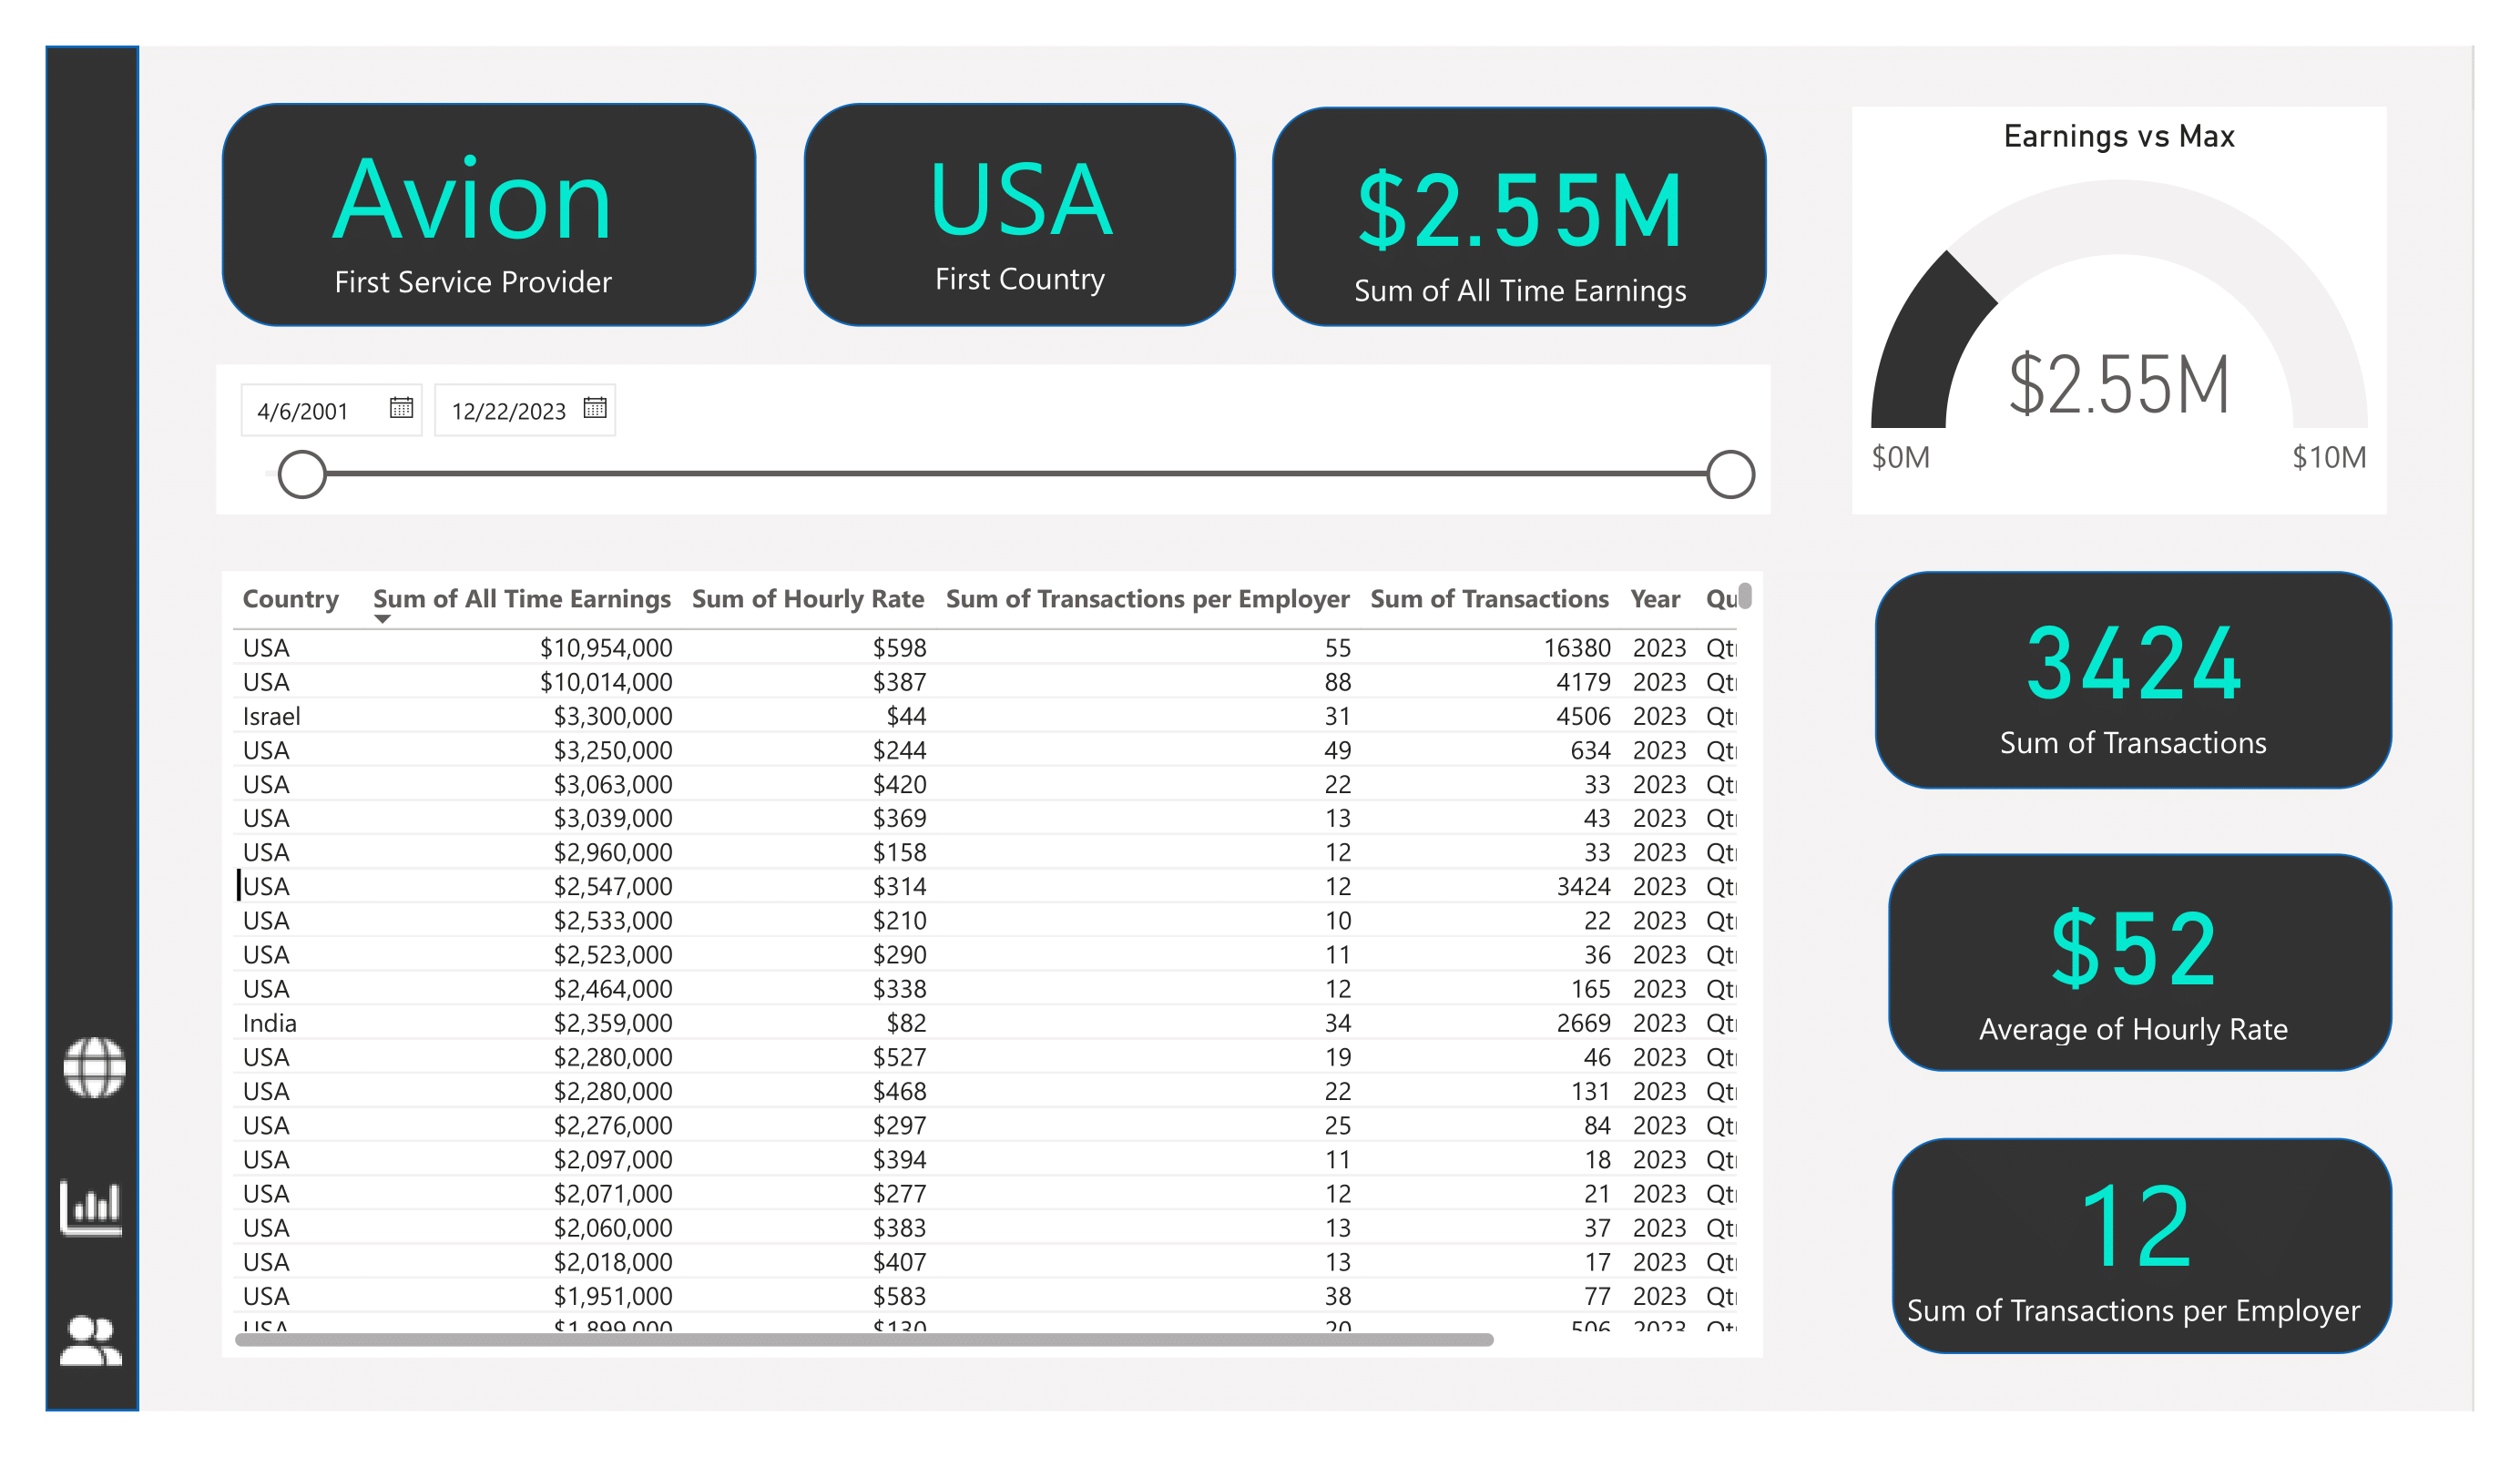

What the dashboard file says about the page in this screenshot:
{"tool":"powerbi","page":{"name":"Service Provider","canvas":[1280,720],"ordinal":0},"visuals":[{"type":"shape","box":[0,0,1280,720],"z":0},{"type":"shape","box":[965,276.7,273.3,115],"z":1000},{"type":"shape","box":[646.7,31.7,261.7,116.7],"z":2000},{"type":"shape","box":[971.7,426.1,266.7,115],"z":3000},{"type":"shape","box":[973.9,575.6,264.4,114.4],"z":4000},{"type":"shape","box":[400,30,228.3,118.3],"z":5000},{"type":"card","fields":{"Values":["Sum(data_to_analyse (2).all_time_earnings)"]},"box":[643.3,31.7,270,116.7],"z":6000},{"type":"card","fields":{"Values":["Min(data_to_analyse (2).country)"]},"box":[400.7,32,226,110],"z":7000},{"type":"card","fields":{"Values":["Sum(data_to_analyse (2).transactions)"]},"box":[970,276.7,263.3,103.3],"z":8000},{"type":"shape","box":[93.3,30,281.7,118.3],"z":9000},{"type":"tableEx","fields":{"Values":["data_to_analyse (2).country","Sum(data_to_analyse (2).all_time_earnings)","Sum(data_to_analyse (2).hourly_rate)","Sum(data_to_analyse (2).Transc\\employer)","Sum(data_to_analyse (2).transactions)","data_to_analyse (2).member_since.Variation.Date Hierarchy.Year","data_to_analyse (2).member_since.Variation.Date Hierarchy.Quarter","data_to_analyse (2).member_since.Variation.Date Hierarchy.Month","data_to_analyse (2).member_since.Variation.Date Hierarchy.Day"]},"box":[93.3,276.7,812.2,415.6],"z":10000},{"type":"card","fields":{"Values":["Min(data_to_analyse (2).service_provider_name)"]},"box":[93.2,30,265,111.2],"z":11000},{"type":"card","fields":{"Values":["Sum(data_to_analyse (2).Transc\\employer)"]},"box":[973.3,573.3,256.7,110],"z":12000},{"type":"card","fields":{"Values":["Avg(data_to_analyse (2).hourly_rate)"]},"box":[973.3,426.7,256.7,105],"z":13000},{"type":"gauge","title":"Earnings vs Max","fields":{"MaxValue":["data_to_analyse (2).Max earnings"],"Y":["Sum(data_to_analyse (2).all_time_earnings)"]},"box":[953.3,31.7,281.7,215],"z":14000},{"type":"shape","box":[0,0,48.6,720],"z":15000},{"type":"actionButton","box":[4.2,663.3,53.3,40],"z":16000},{"type":"actionButton","box":[5.6,518.9,53.3,40],"z":17000},{"type":"actionButton","box":[4.4,593.3,53.3,40],"z":18000},{"type":"slicer","fields":{"Values":["data_to_analyse (2).member_since"]},"box":[90,168.3,820,78.3],"z":19000}]}

Visuals, with their boxes on the page's 1280x720 design canvas (x1, y1, x2, y2). These are canvas units, not pixel positions in the 2520x1457 screenshot, which may show the page scaled, cropped or inside an application window:
shape: [left=0, top=0, right=1280, bottom=720]
shape: [left=965, top=277, right=1238, bottom=392]
shape: [left=647, top=32, right=908, bottom=148]
shape: [left=972, top=426, right=1238, bottom=541]
shape: [left=974, top=576, right=1238, bottom=690]
shape: [left=400, top=30, right=628, bottom=148]
card - Sum(data_to_analyse (2).all_time_earnings): [left=643, top=32, right=913, bottom=148]
card - Min(data_to_analyse (2).country): [left=401, top=32, right=627, bottom=142]
card - Sum(data_to_analyse (2).transactions): [left=970, top=277, right=1233, bottom=380]
shape: [left=93, top=30, right=375, bottom=148]
tableEx - data_to_analyse (2).country x Sum(data_to_analyse (2).all_time_earnings): [left=93, top=277, right=906, bottom=692]
card - Min(data_to_analyse (2).service_provider_name): [left=93, top=30, right=358, bottom=141]
card - Sum(data_to_analyse (2).Transc\employer): [left=973, top=573, right=1230, bottom=683]
card - Avg(data_to_analyse (2).hourly_rate): [left=973, top=427, right=1230, bottom=532]
"Earnings vs Max" gauge: [left=953, top=32, right=1235, bottom=247]
shape: [left=0, top=0, right=49, bottom=720]
actionButton: [left=4, top=663, right=58, bottom=703]
actionButton: [left=6, top=519, right=59, bottom=559]
actionButton: [left=4, top=593, right=58, bottom=633]
slicer - data_to_analyse (2).member_since: [left=90, top=168, right=910, bottom=247]
